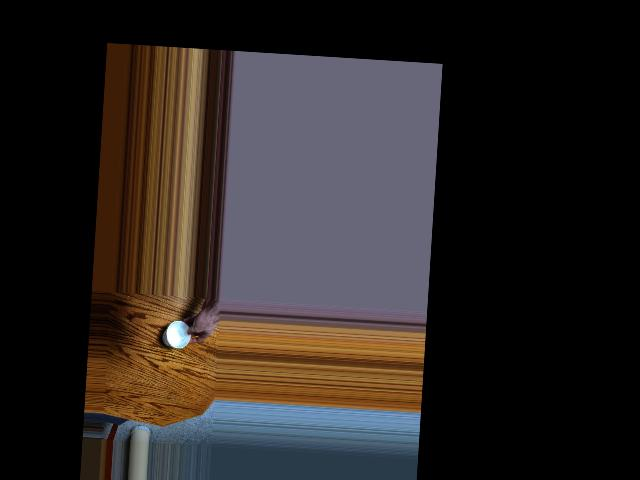cotage: (162, 315, 196, 353)
